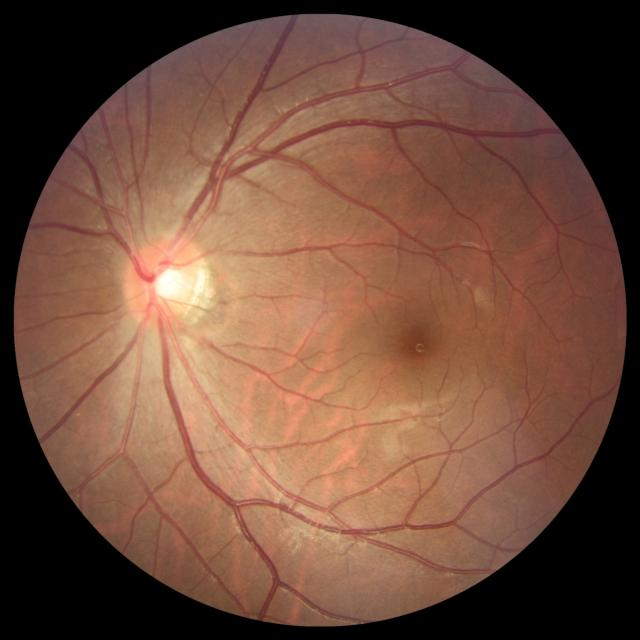OC: (148, 263, 187, 302)
OD: (126, 232, 206, 327)
